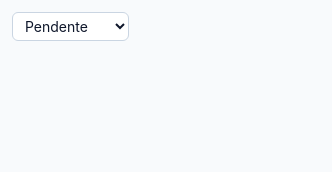
it: OrderStatusControl › se o servidor recusar: volta à situação real e mostra o motivo como alerta
The width and height of the screenshot is (332, 172).
Select "Confirmado" in the dropdown named "Situação do pedido #42" at {"x": 70, "y": 26}, box [12,12,129,41]
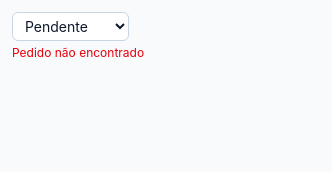
Expected: the message reads "Pedido não encontrado", [12,45,144,60]
